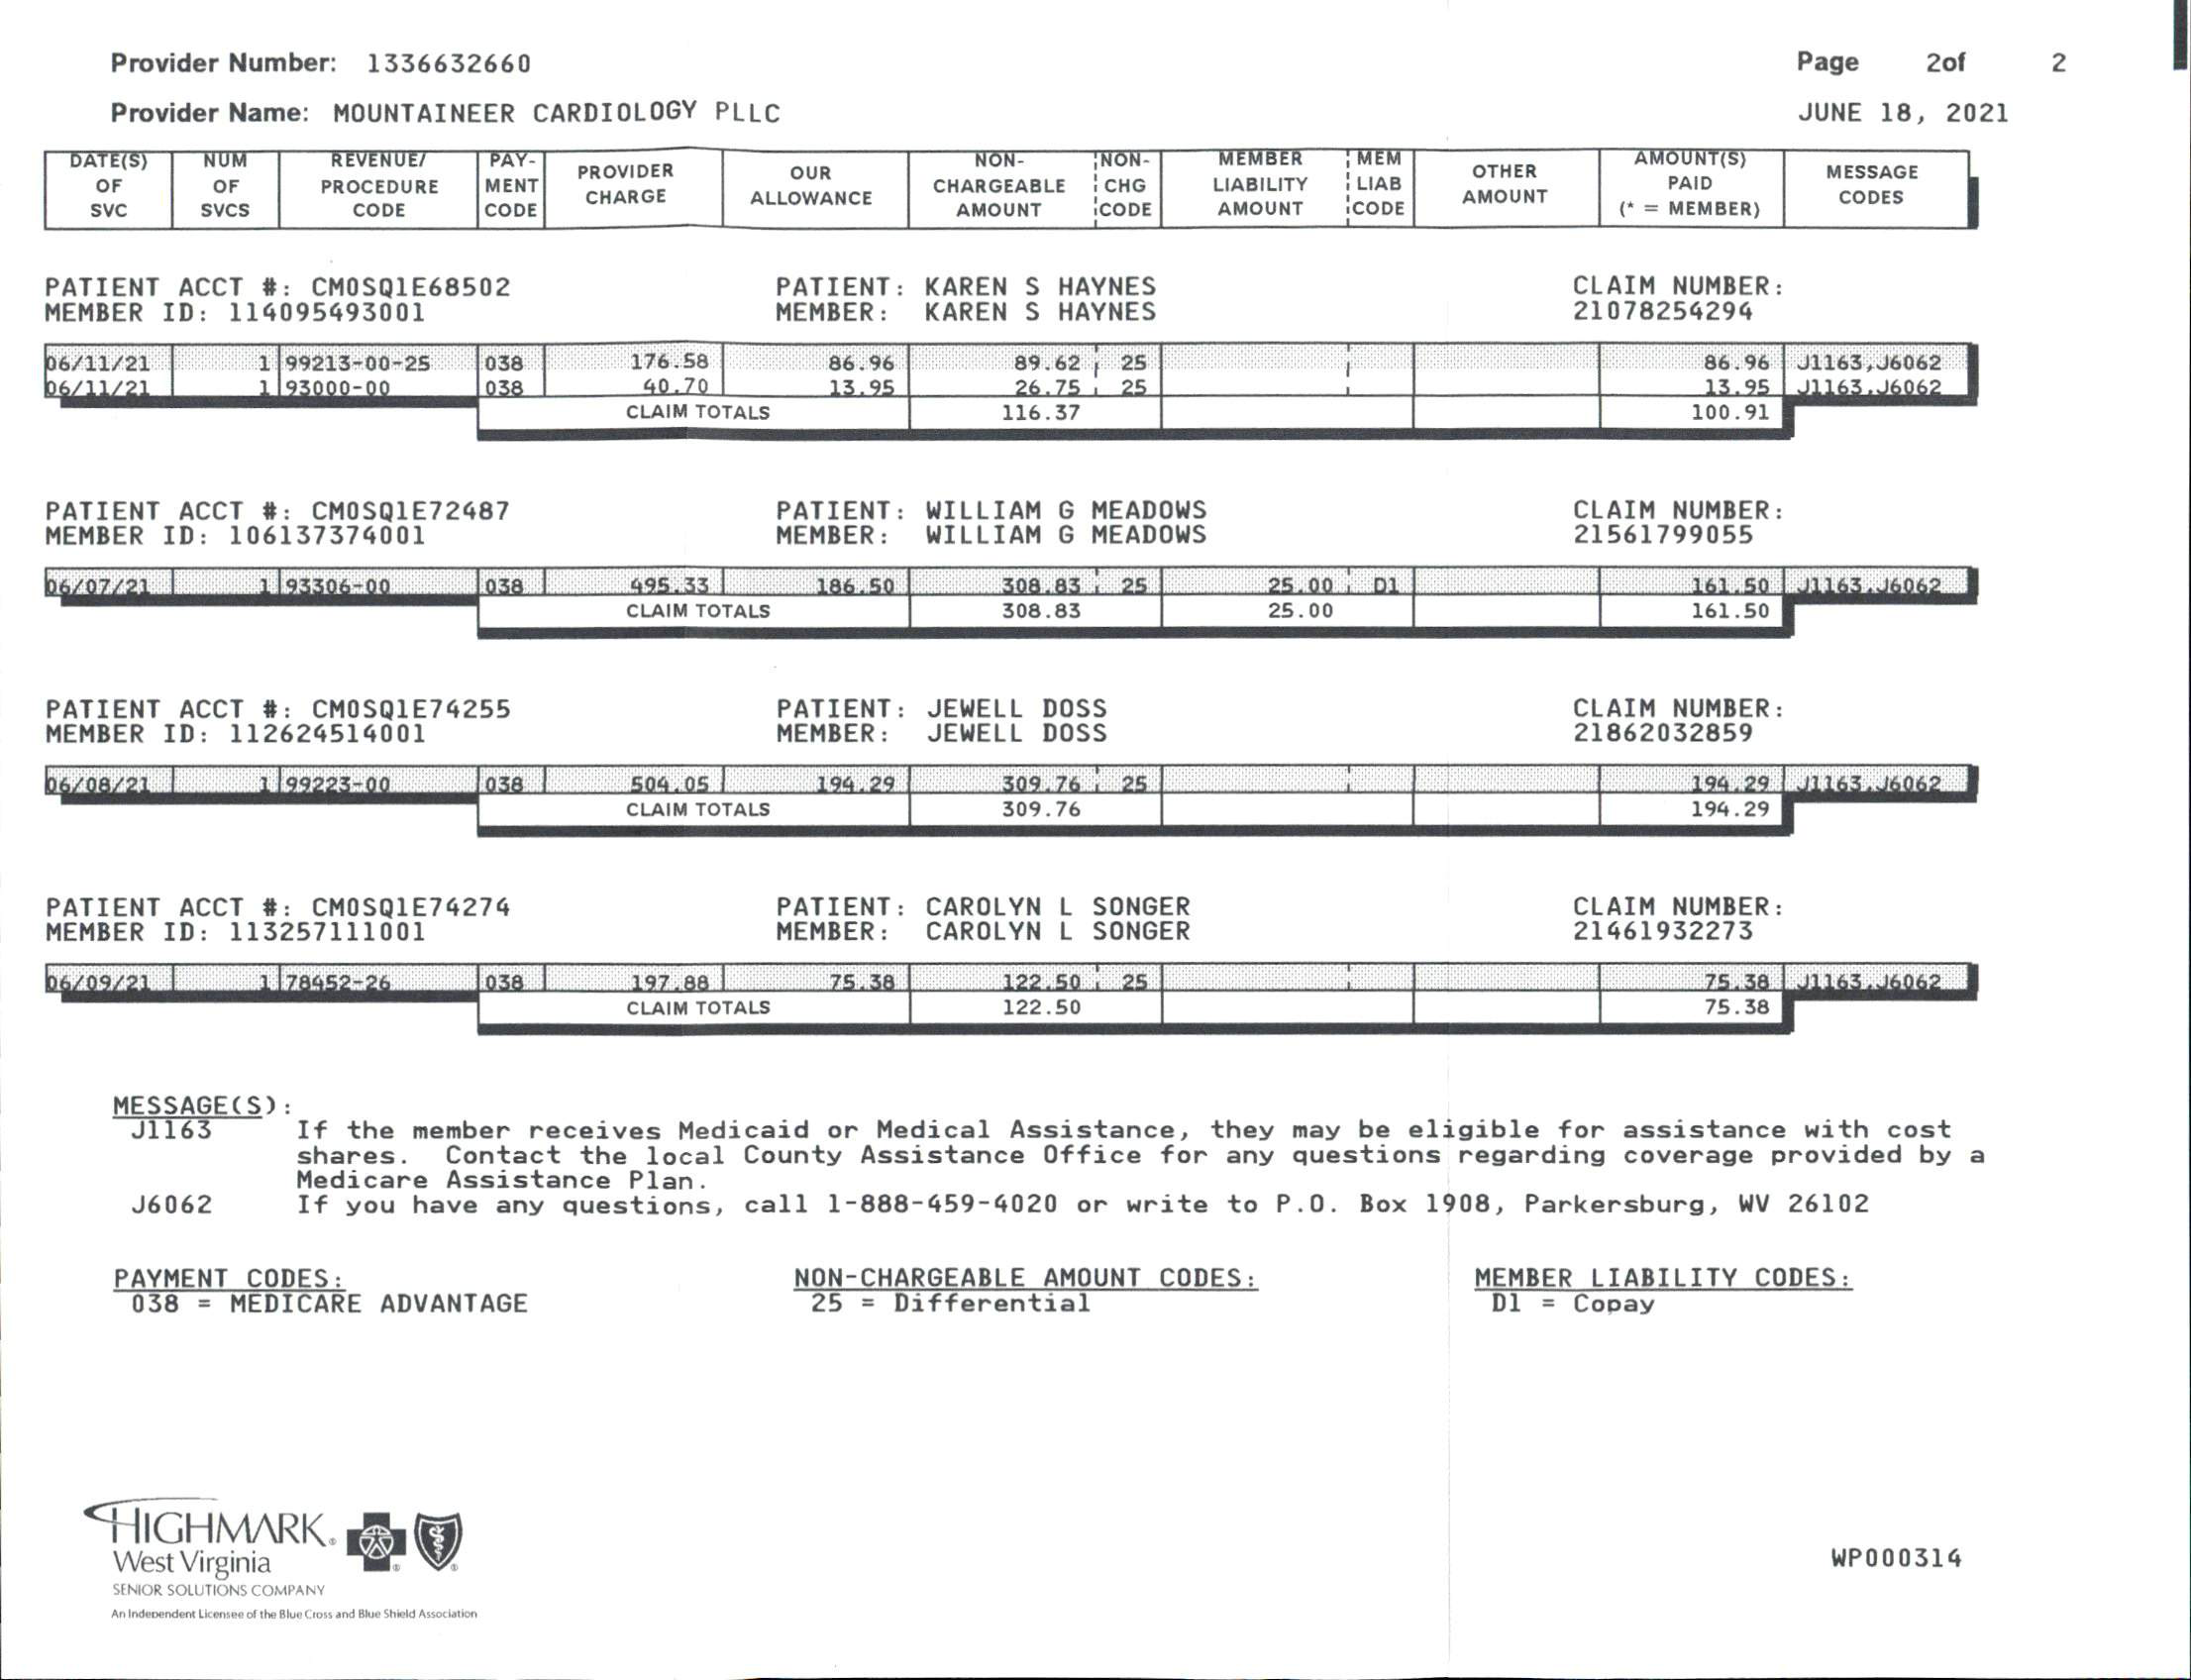data: (25, 252, 1810, 330), (23, 484, 1815, 558), (35, 879, 1808, 949), (18, 681, 1822, 748), (90, 37, 796, 141)
table: (34, 139, 2006, 1059)
